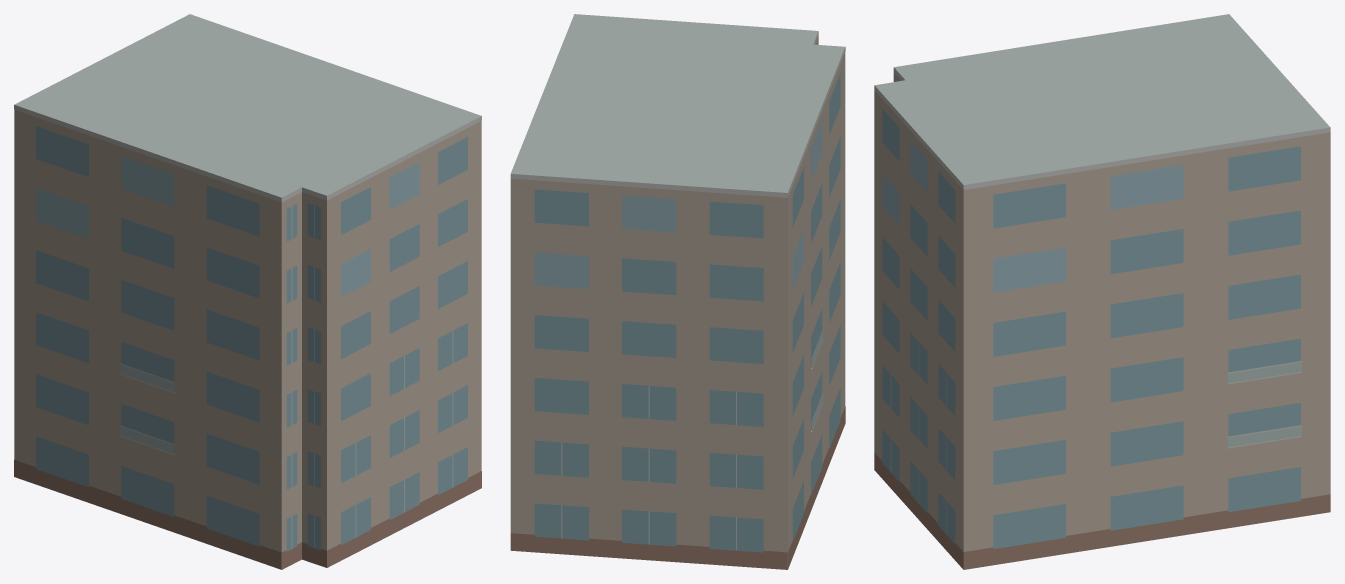
File: survey-upis-32833154.glb
3 views of the same model, side by side, from view 1: azimuth 30°, elevation 25°; view 2: azimuth 150°, elevation 25°; view 3: azimuth 270°, elevation 25° (orthographic). The views are drawn at different scales.
Parts seen in each view (by area): view 1: survey-upis-32833154.tmp; view 2: survey-upis-32833154.tmp; view 3: survey-upis-32833154.tmp.
Part boxes in pixels (bbox=[...]): survey-upis-32833154.tmp: bbox=[14, 14, 481, 569]; survey-upis-32833154.tmp: bbox=[510, 14, 845, 569]; survey-upis-32833154.tmp: bbox=[874, 14, 1330, 569].
Bounding box in the file's own units: 18.23 × 19.1 × 20.53.
